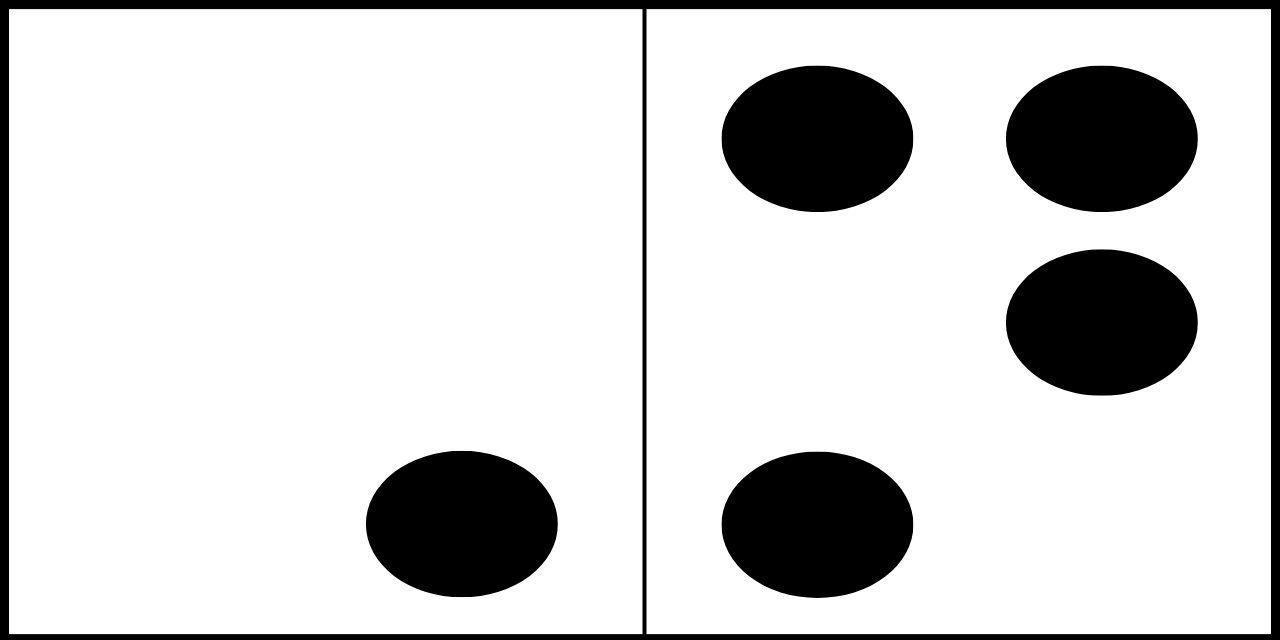capital_sign: (139, 63, 558, 600)
letter_N: (723, 65, 1198, 600)
